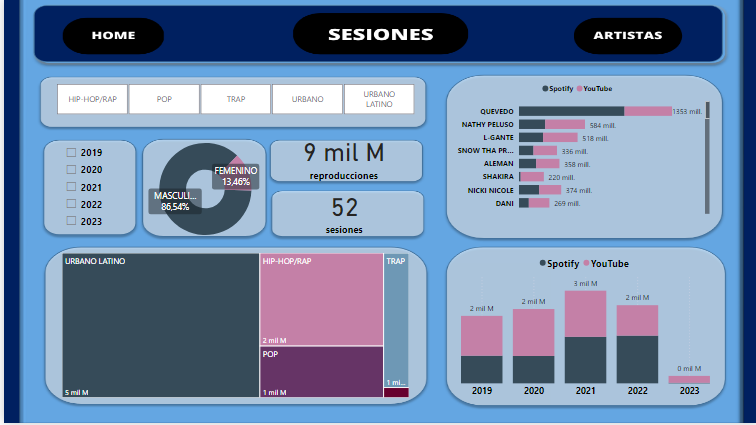

Layout of this report page (visuals, bound fields, positions):
{"tool":"powerbi","page":{"name":"sesiones","canvas":[1280,720],"ordinal":1},"visuals":[{"type":"slicer","fields":{"Values":["GENEROS.GENERO"]},"box":[64.6,138.5,655.4,64.6],"z":0},{"type":"slicer","fields":{"Values":["SESIONES.FECHA_LANZAMIENTO.Variación.Jerarquía de fechas.Año"]},"box":[93.8,241.5,141.5,156.9],"z":1000},{"type":"donutChart","fields":{"Category":["ARTISTAS.GENERO"],"Y":["CountNonNull(ARTISTAS.GENERO)"]},"box":[164.6,215.4,353.8,216.9],"z":2000},{"type":"barChart","fields":{"Category":["ARTISTAS.NOMBRE"],"Y":["Sum(SESIONES.VIS_SPOTIFY)","Sum(SESIONES.VIS_YOUTUBE)"]},"box":[746.2,133.8,455.4,236.9],"z":3000},{"type":"columnChart","fields":{"Category":["SESIONES.FECHA_LANZAMIENTO.Variación.Jerarquía de fechas.Año"],"Y":["Sum(SESIONES.VIS_SPOTIFY)","Sum(SESIONES.VIS_YOUTUBE)"]},"box":[769.2,427.7,432.3,260],"z":4000},{"type":"treemap","fields":{"Group":["GENEROS.GENERO"],"Values":["ARTISTAS.TOTAL DE REPRODUCCIONES"]},"box":[93.8,427.7,598.5,255.4],"z":5000},{"type":"card","fields":{"Values":["ARTISTAS.TOTAL DE REPRODUCCIONES"]},"box":[366.2,215.4,420,104.6],"z":6000},{"type":"card","fields":{"Values":["ARTISTAS.Total de sesiones"]},"box":[438.5,307.7,275.4,103.1],"z":7000},{"type":"actionButton","box":[973.8,36.9,170.8,58.5],"z":8000},{"type":"actionButton","box":[109.2,36.9,150.8,56.9],"z":9000}]}

Visuals, with their boxes in screenshot pixels (x1, y1, x2, y2), scaled from the page's 1280x720 canvas onto the 756x425 screenshot:
slicer - GENEROS.GENERO: 38,82,425,120
slicer - SESIONES.FECHA_LANZAMIENTO.Variación.Jerarquía de fechas.Año: 55,143,139,235
donutChart - ARTISTAS.GENERO x CountNonNull(ARTISTAS.GENERO): 97,127,306,255
barChart - ARTISTAS.NOMBRE x Sum(SESIONES.VIS_SPOTIFY): 441,79,710,219
columnChart - SESIONES.FECHA_LANZAMIENTO.Variación.Jerarquía de fechas.Año x Sum(SESIONES.VIS_SPOTIFY): 454,252,710,406
treemap - GENEROS.GENERO x ARTISTAS.TOTAL DE REPRODUCCIONES: 55,252,409,403
card - ARTISTAS.TOTAL DE REPRODUCCIONES: 216,127,464,189
card - ARTISTAS.Total de sesiones: 259,182,422,242
actionButton: 575,22,676,56
actionButton: 64,22,154,55
